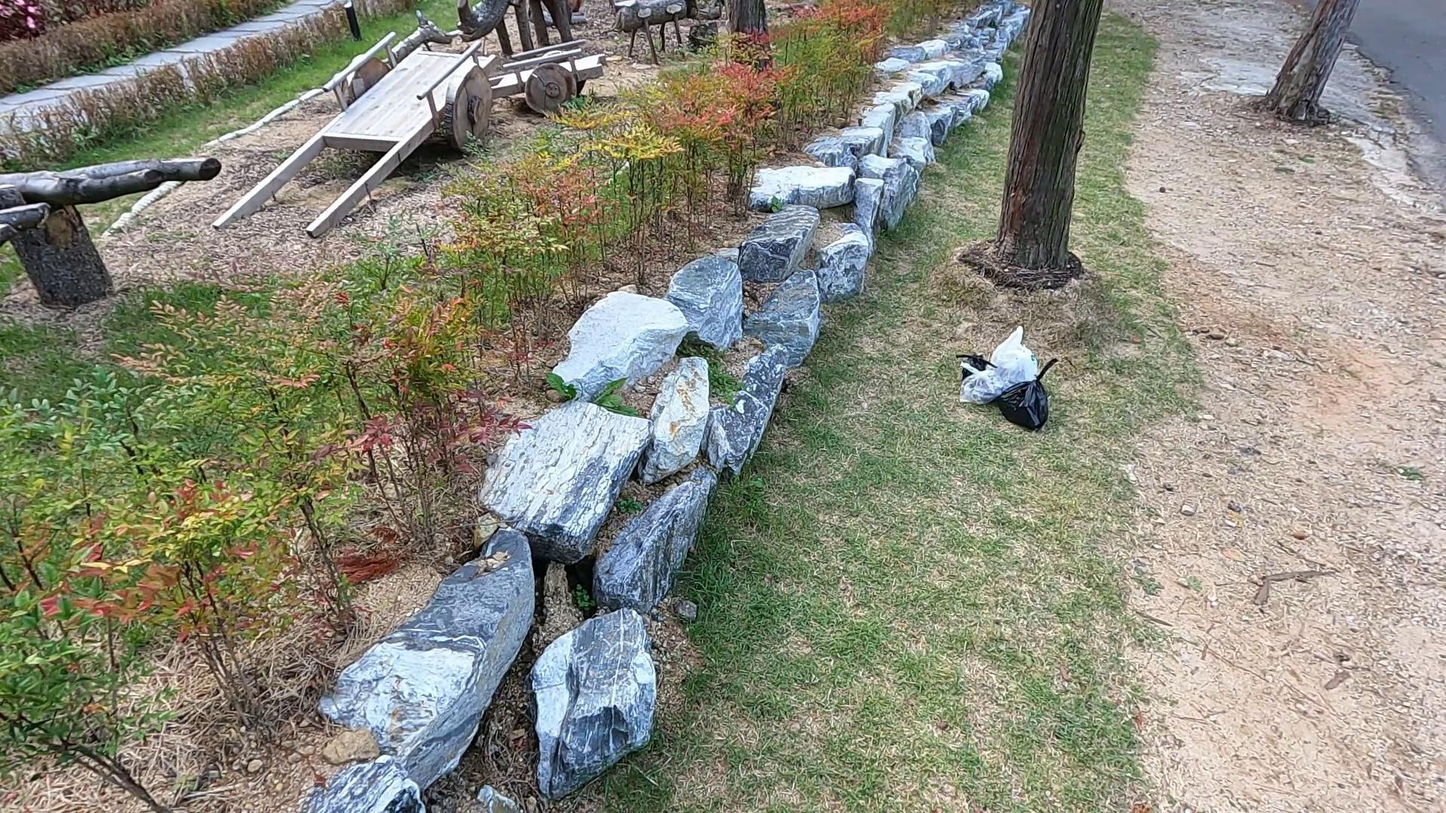trash: (990, 363, 1058, 431), (979, 326, 1043, 393), (953, 358, 1018, 404)
